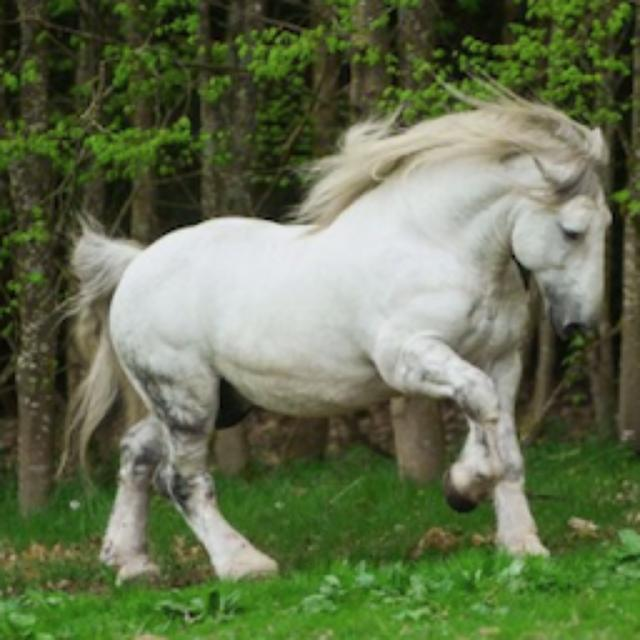Horse: (48, 82, 622, 590)
